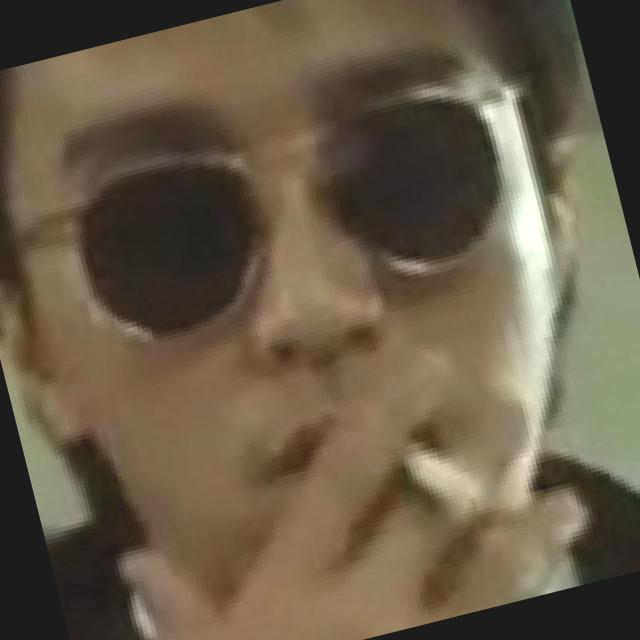cigarette: (390, 421, 487, 531)
